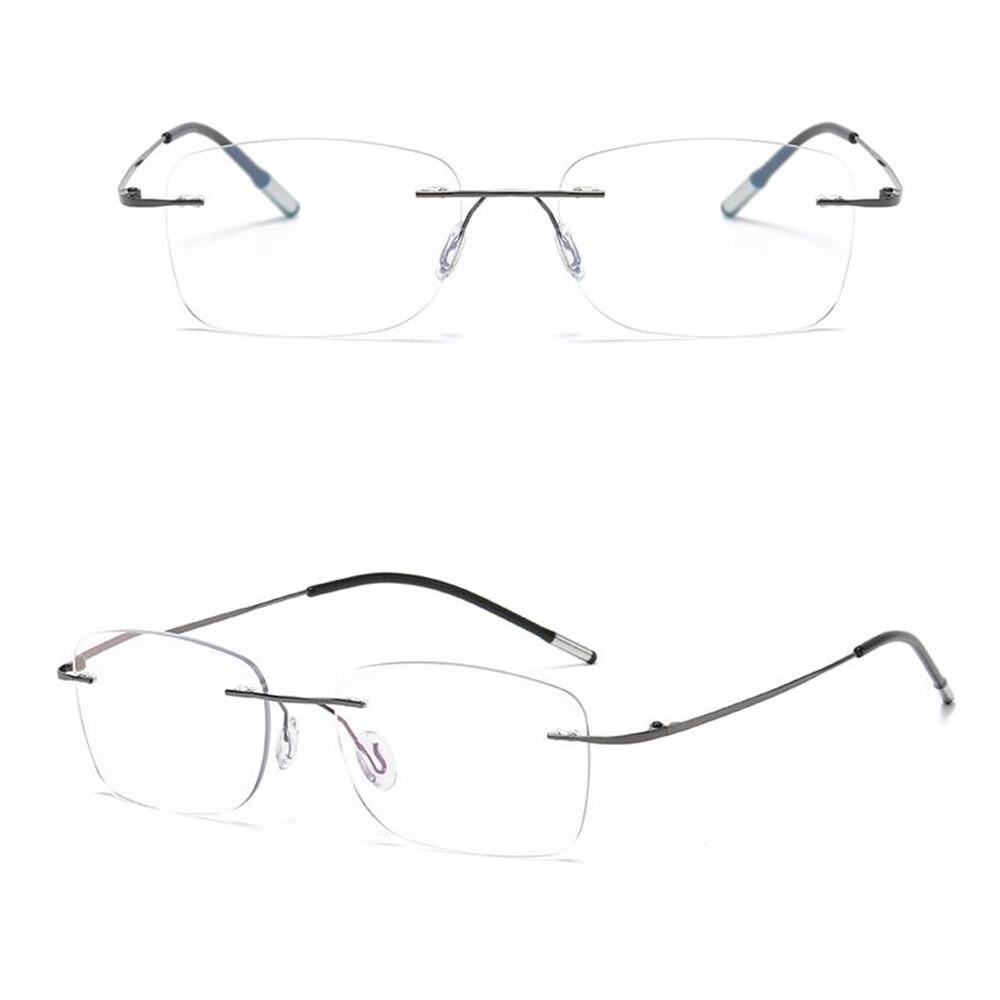spectacles: (80, 16, 924, 382), (32, 612, 940, 888)
